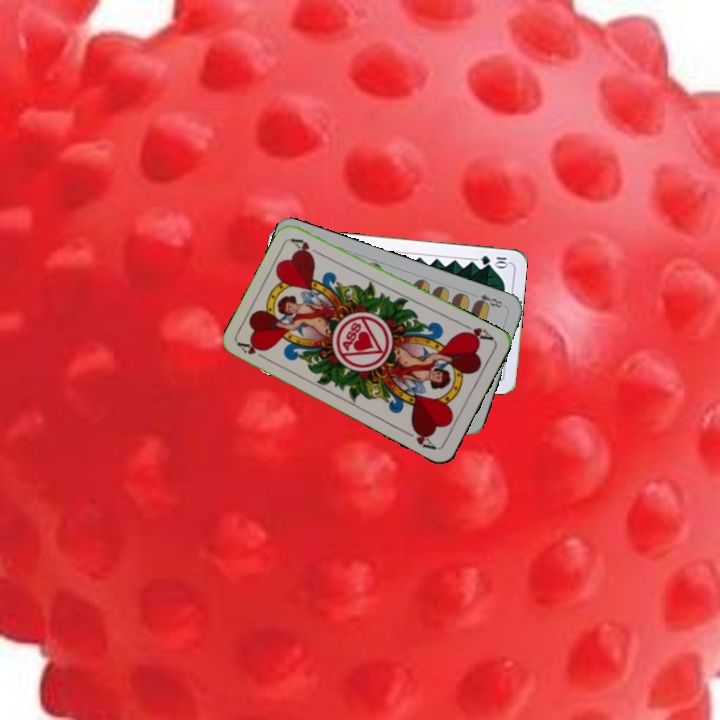E8: (471, 290, 505, 310)
G10: (477, 252, 511, 269)
HA: (457, 319, 496, 344), (234, 339, 272, 364)
